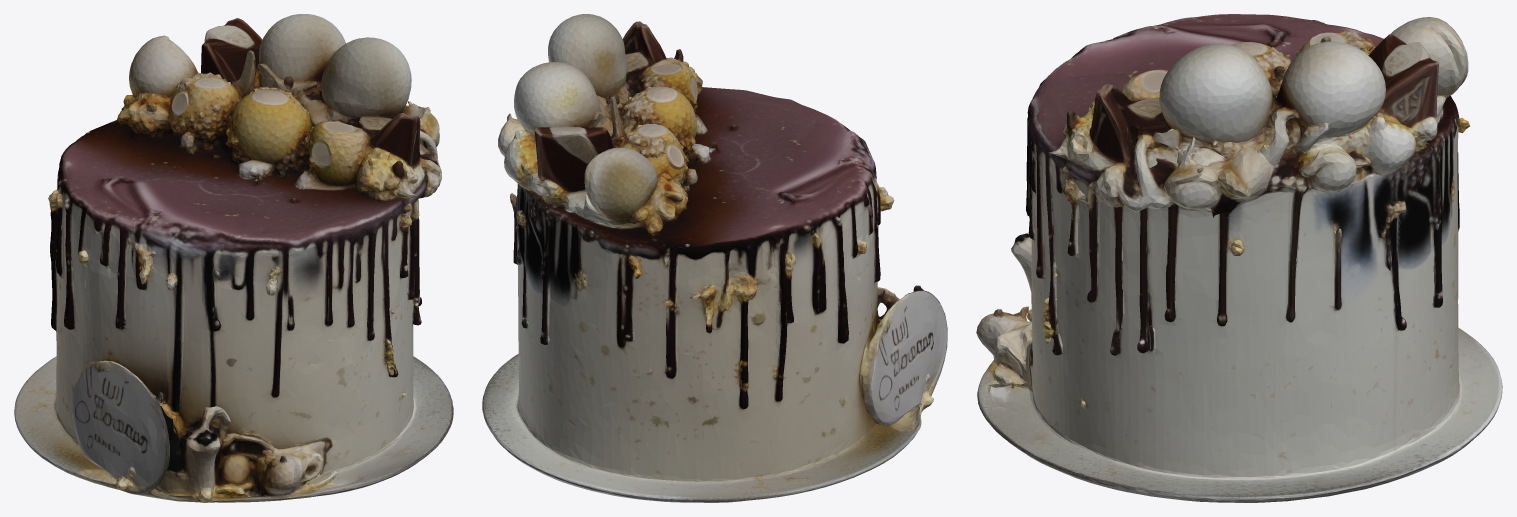
Rendered from cake.glb.
3 views of the same model, side by side, from view 1: azimuth 30°, elevation 25°; view 2: azimuth 150°, elevation 25°; view 3: azimuth 270°, elevation 25° (orthographic). The views are drawn at different scales.
Visible parts, largest first — view 1: world; view 2: world; view 3: world.
Part boxes in pixels (<box>): world: <box>14,14,453,502</box>; world: <box>482,14,947,502</box>; world: <box>976,14,1502,502</box>.
Bounding box in the file's own units: 0.6997 × 0.6178 × 0.6986.
1 material, 1 textured.
